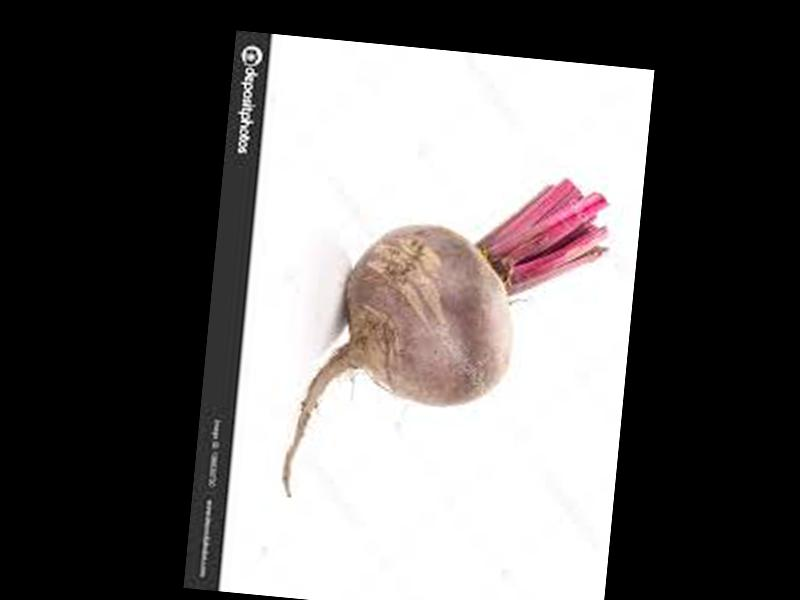Beet: (281, 157, 612, 525)
